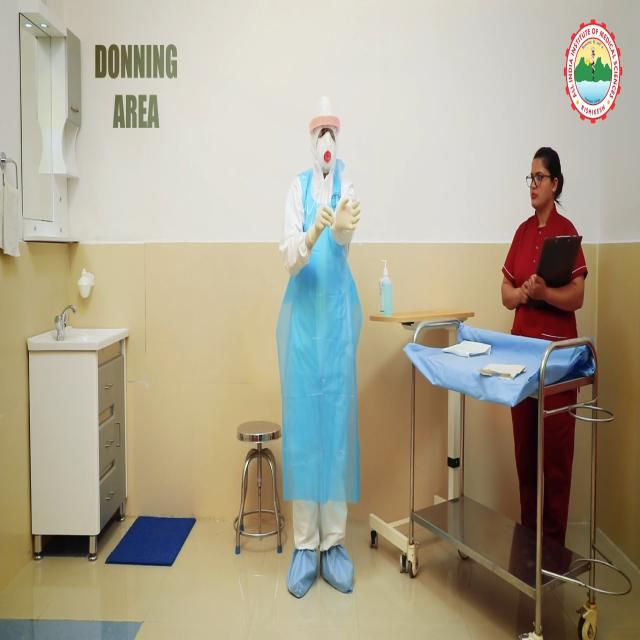Gloves: (325, 200, 365, 240)
